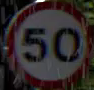Speed limit: (5, 0, 91, 87)
